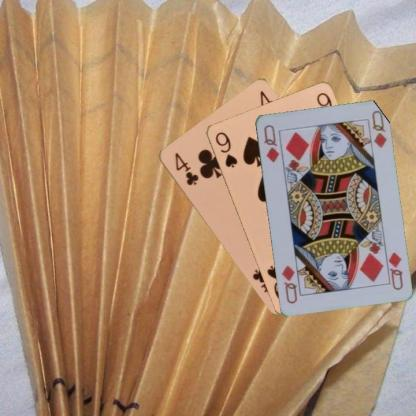4c: (172, 150, 200, 186)
9s: (212, 129, 239, 169)
Qd: (381, 247, 404, 291), (261, 122, 280, 163)
